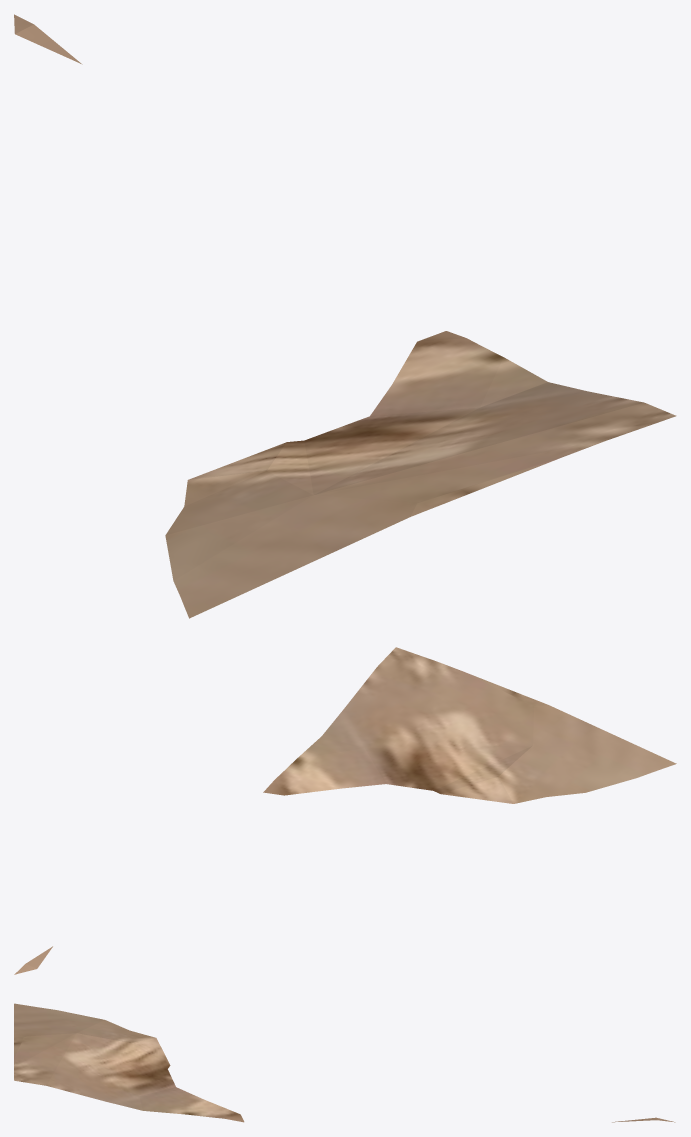
3 views of the same model, one above another, from view 1: azimuth 30°, elevation 25°; view 2: azimuth 150°, elevation 25°; view 3: azimuth 270°, elevation 25° (orthographic). The views are drawn at different scales.
Size of the model in its own units: 0.1741 by 0.0285 by 0.4099.
Materials: 1 (1 with a texture image).
